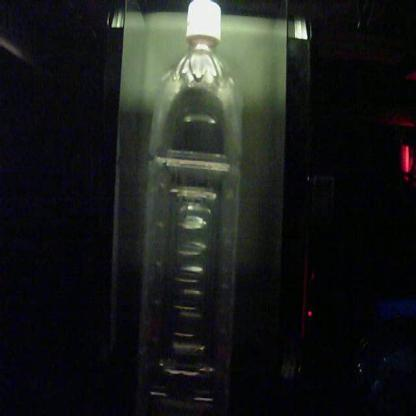Plastic Bottle: (140, 0, 242, 416)
